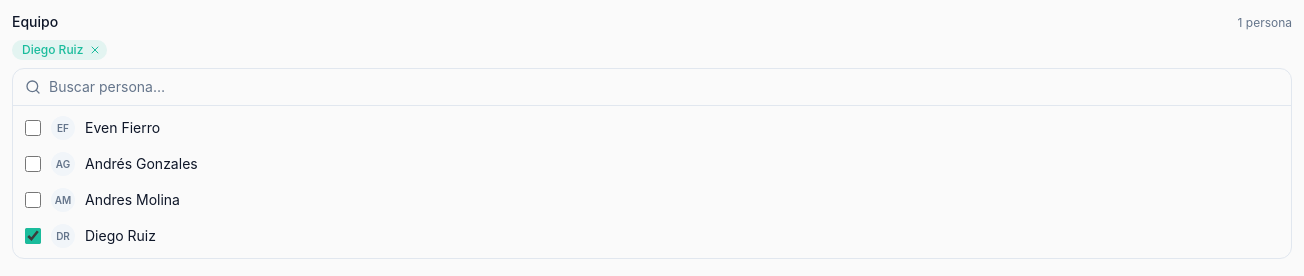
SelectorEquipo › muestra arriba a los elegidos y permite quitarlos
The width and height of the screenshot is (1304, 276).
Expected: the list item "Diego Ruiz" is shown, [12, 40, 107, 60]
Click the button named "Quitar a Diego Ruiz" at [95, 50], box [87, 42, 103, 58]
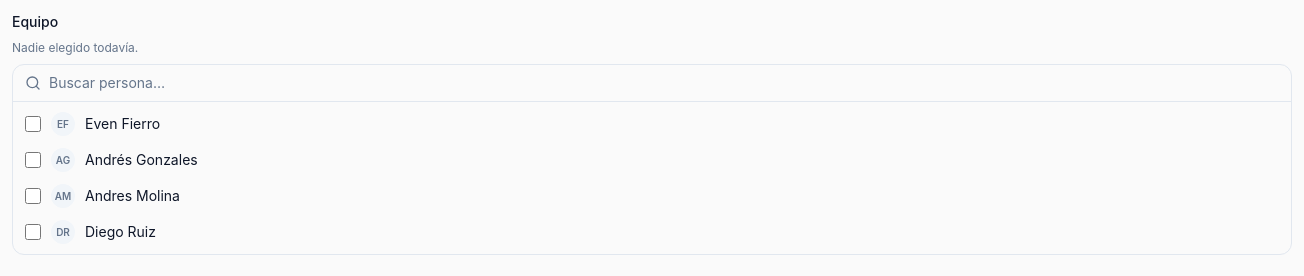
Expected: the text "Nadie elegido todavía." is shown, [12, 40, 138, 55]
